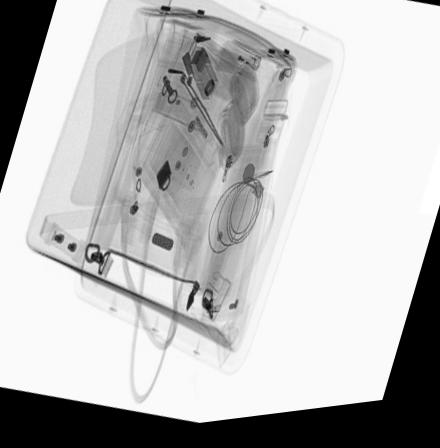Lighter: (219, 47, 264, 86)
